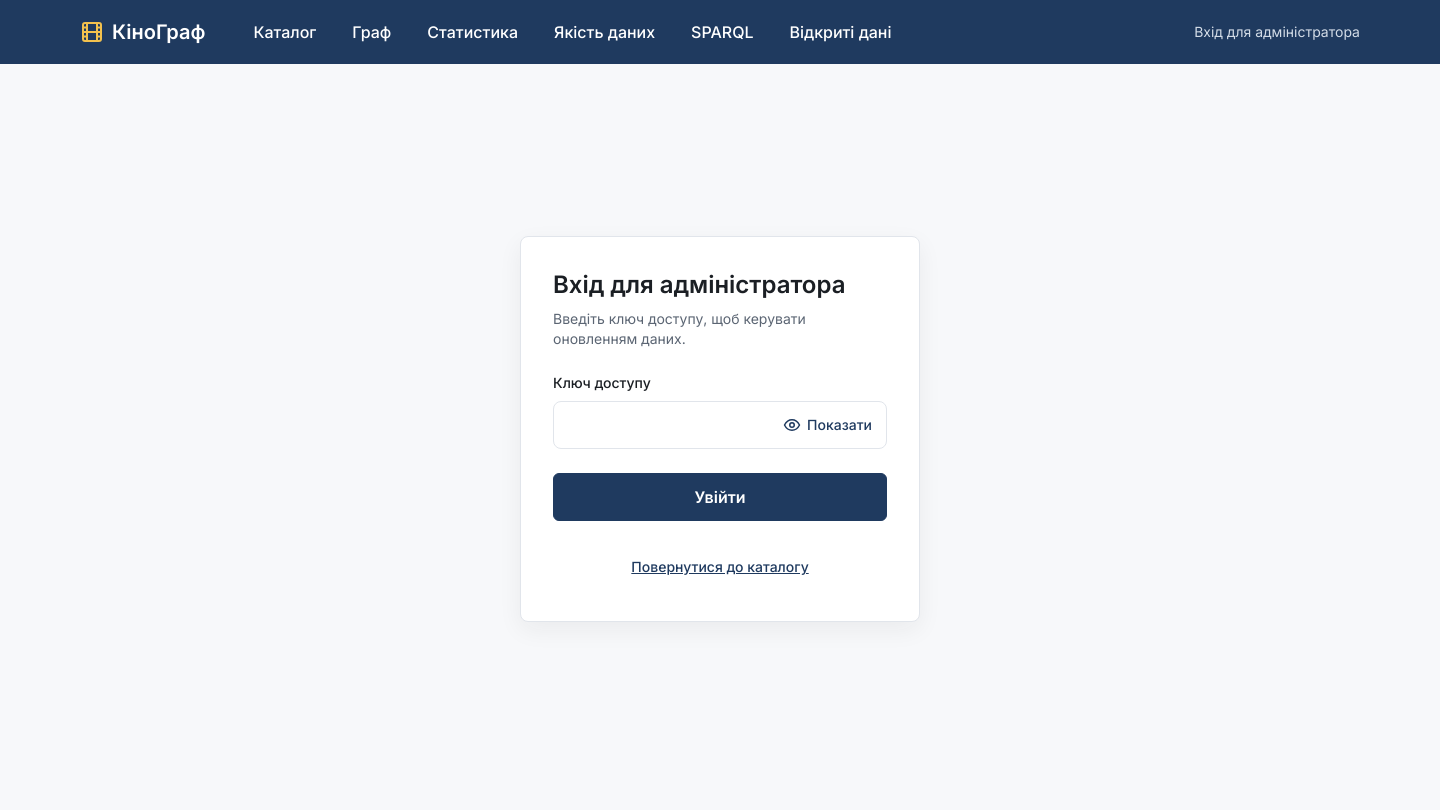
Scenario: адміністрування › відхиляє ключ із недопустимими символами без запиту до сервера
The image size is (1440, 810).
In the password field labelled "Ключ доступу": (670, 425) [566,403,773,447], type "ключ"
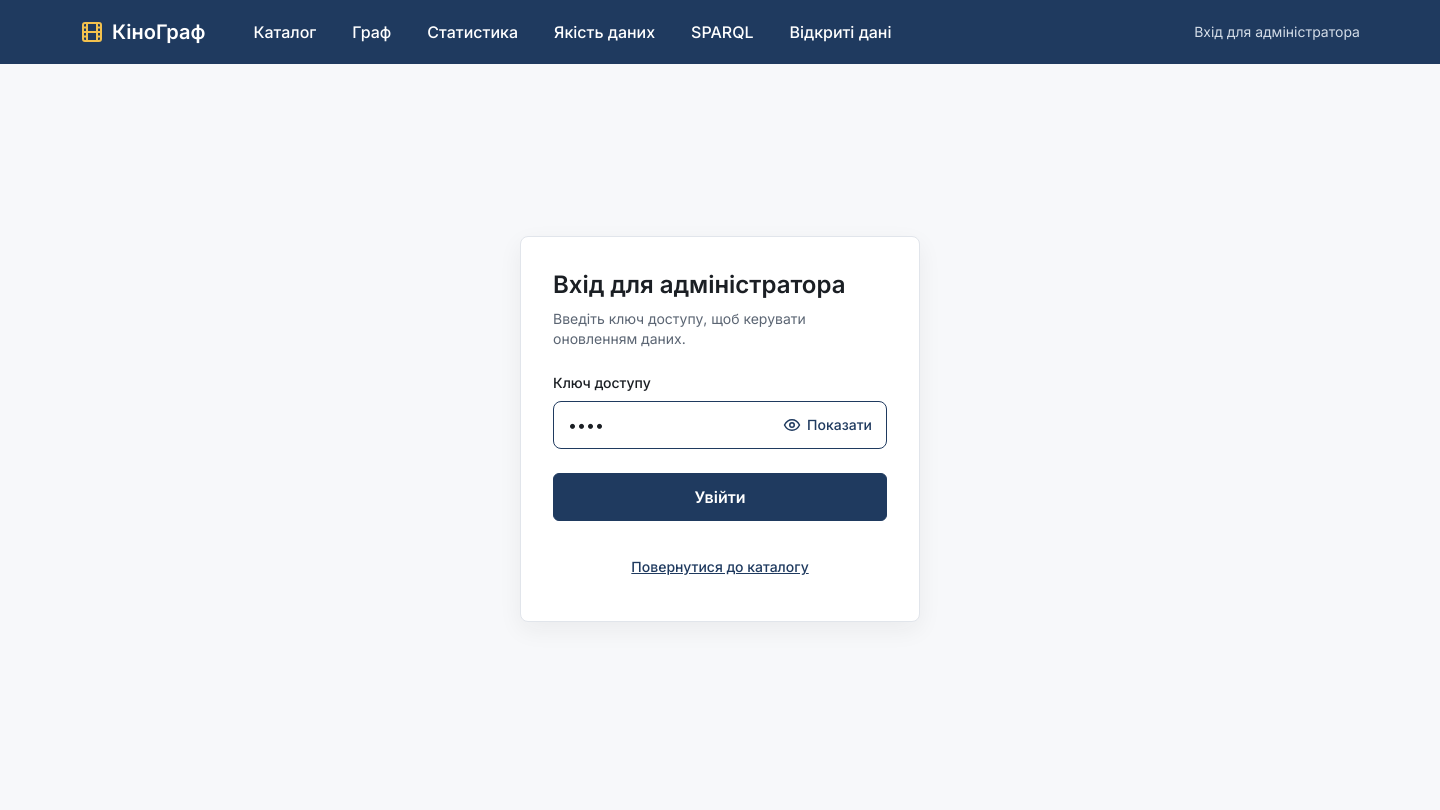
Click the button "Увійти": click(720, 497) [553,473,887,521]
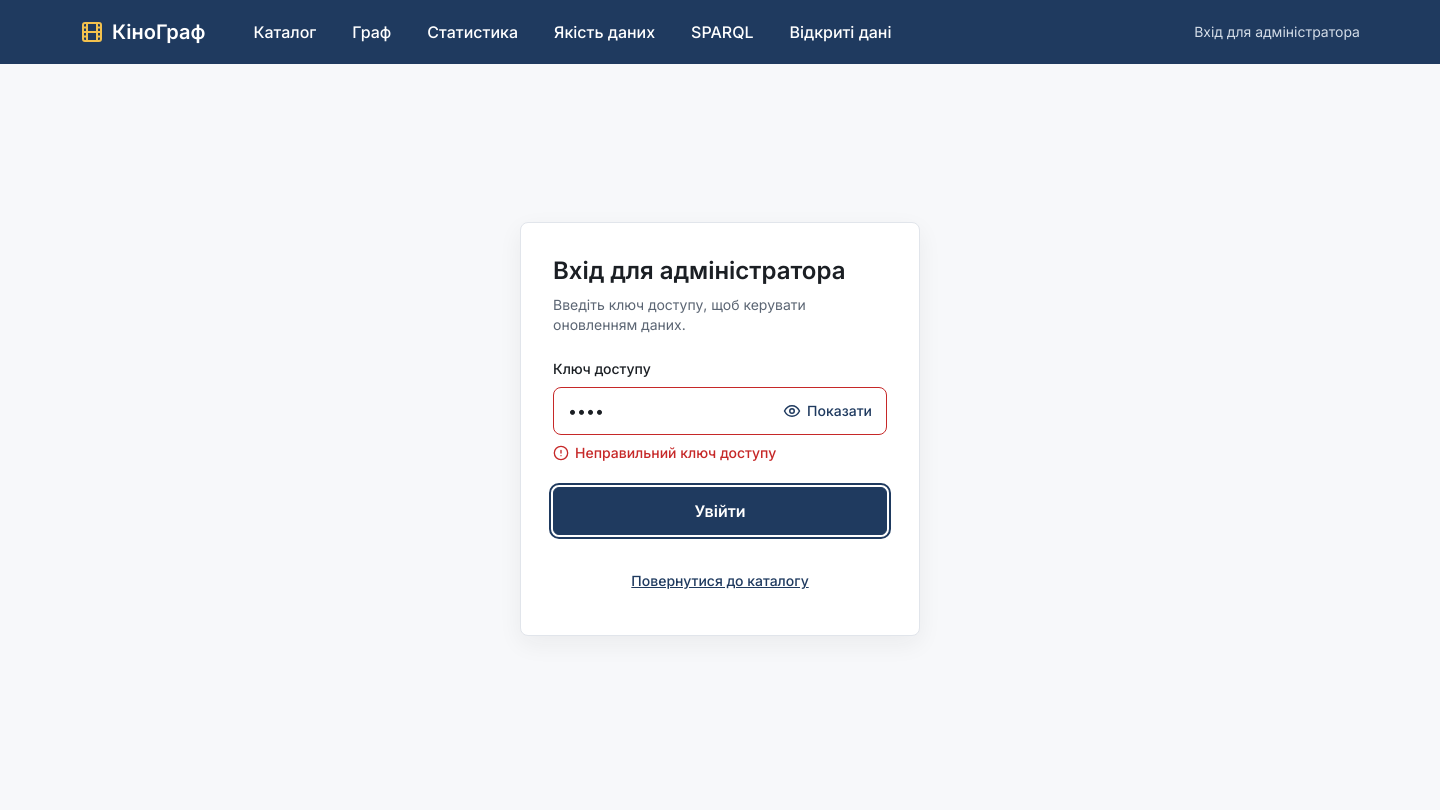
Now the message reads "Неправильний ключ доступу", box [575,444,776,461]
